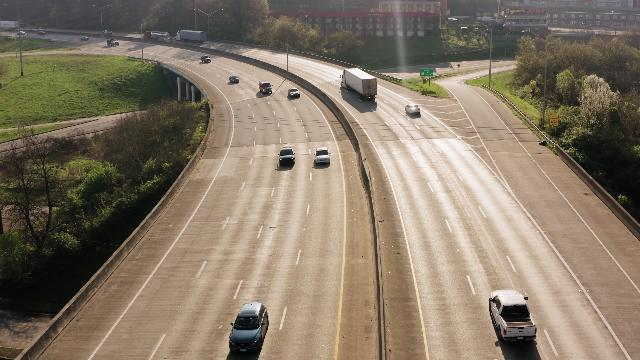car: (226, 298, 271, 356), (312, 144, 332, 169), (277, 145, 296, 170), (404, 102, 422, 118), (288, 87, 301, 98), (229, 76, 240, 83), (202, 55, 212, 61)
pickup-truck: (487, 287, 539, 346)
truck: (337, 65, 379, 104), (174, 31, 208, 43), (142, 29, 171, 41)
van: (254, 78, 274, 94)
